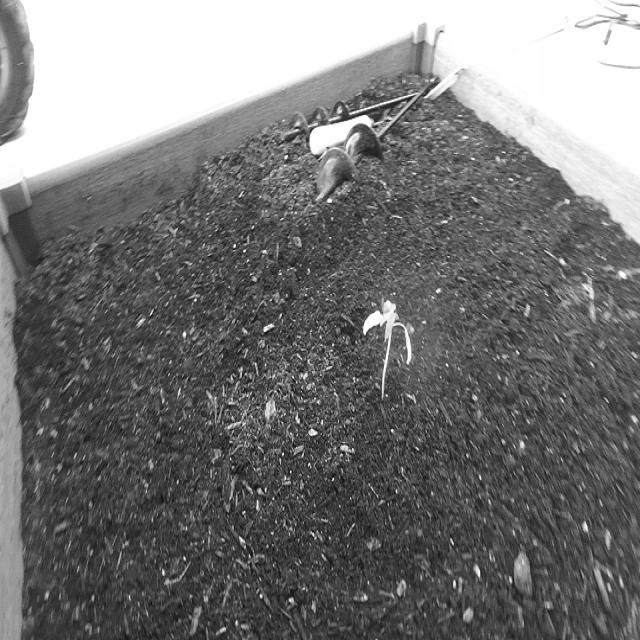Healthy: (356, 292, 424, 414)
